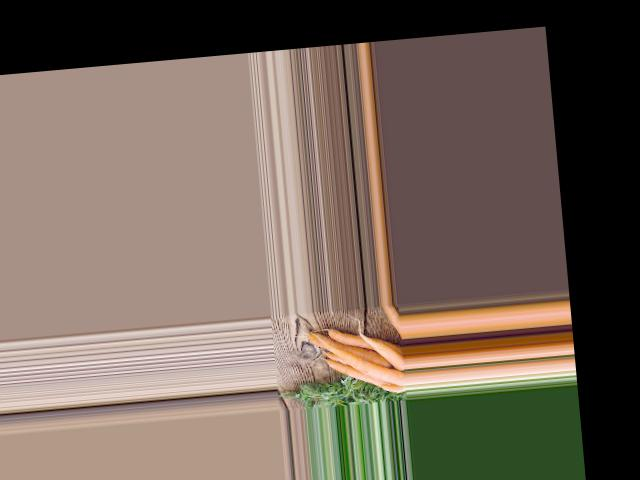carrot: (361, 330, 402, 371)
